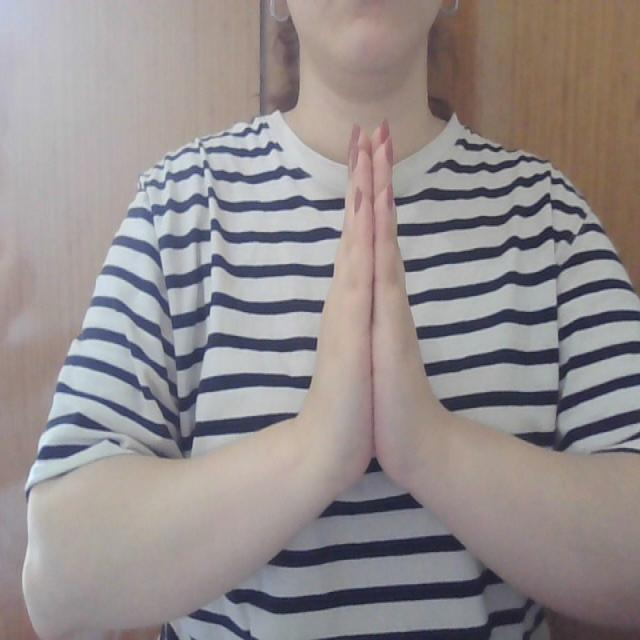Ozur-Dilemek: (301, 102, 438, 503)
